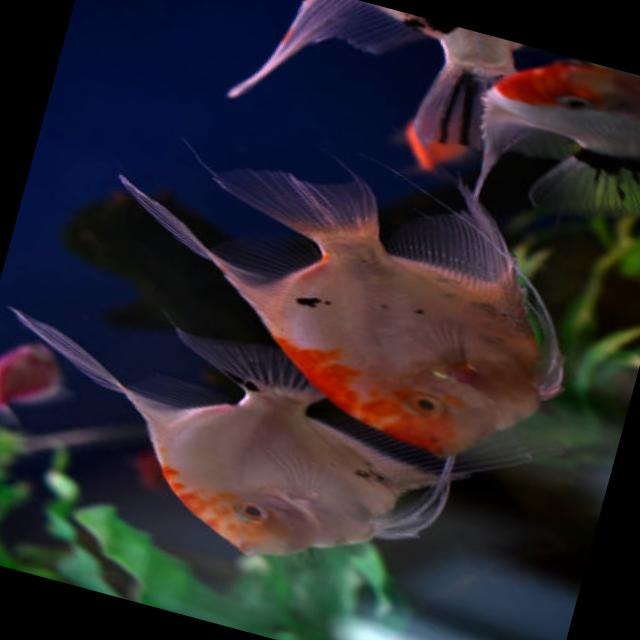AngelFish: (70, 112, 604, 479), (0, 277, 483, 598), (458, 36, 640, 247)
